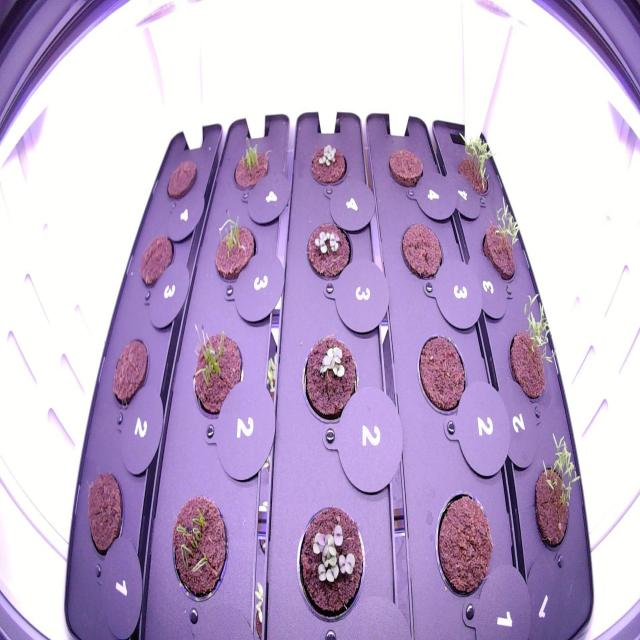germination: (286, 499, 369, 623), (527, 422, 585, 558), (166, 490, 232, 608), (502, 288, 562, 408), (182, 317, 247, 427), (295, 329, 361, 430), (475, 192, 523, 291), (208, 207, 260, 284), (301, 218, 355, 286), (450, 124, 494, 206), (227, 130, 275, 202), (305, 137, 350, 191)
pod: (429, 483, 496, 603), (414, 328, 472, 422), (82, 465, 127, 568), (396, 216, 447, 288), (106, 333, 150, 412), (136, 230, 176, 294), (384, 142, 427, 193), (162, 153, 199, 204)
